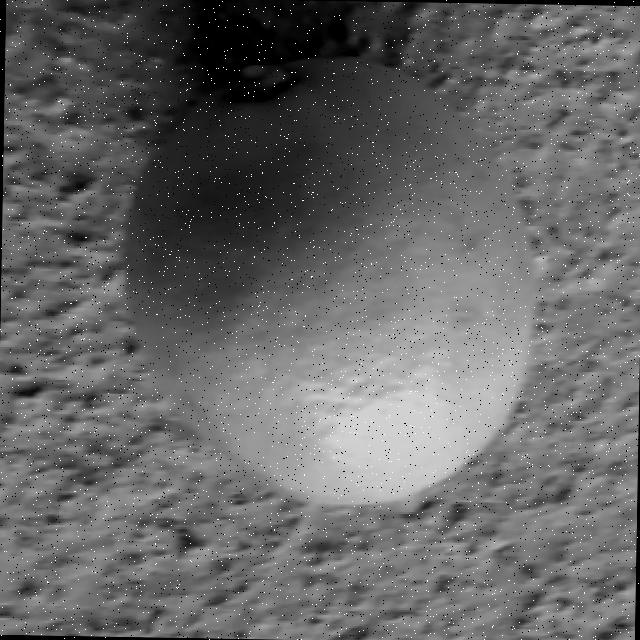Lemon: (121, 46, 545, 521)
